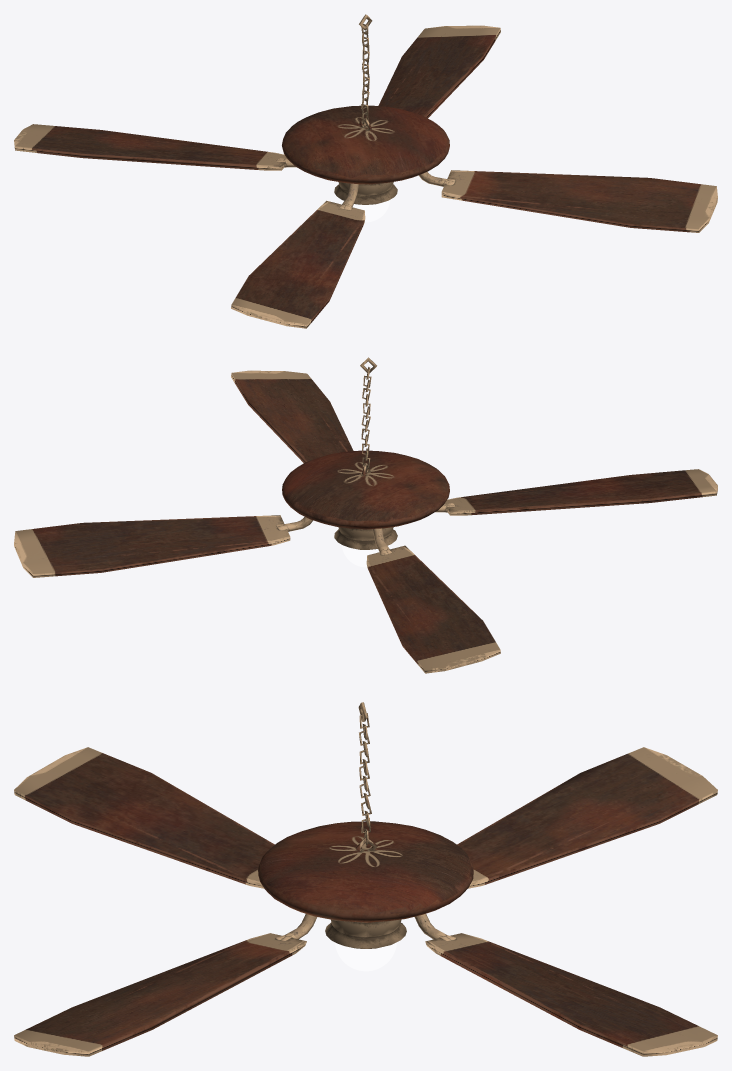
The model's file is classic_ceiling_fan.glb.
The picture shows the model from 3 angles, top to bottom: view 1: azimuth 30°, elevation 25°; view 2: azimuth 150°, elevation 25°; view 3: azimuth 270°, elevation 25°; orthographic projection. The views are drawn at different scales.
Visible parts, largest first — view 1: Blades, Base; view 2: Blades, Base; view 3: Blades, Base, Light.
Part boxes in pixels (left/top/right/bottom): Blades: left=14, top=25, right=717, bottom=328; Base: left=282, top=14, right=449, bottom=204; Blades: left=14, top=370, right=717, bottom=673; Base: left=282, top=357, right=449, bottom=549; Blades: left=14, top=747, right=717, bottom=1056; Base: left=258, top=702, right=473, bottom=948; Light: left=335, top=942, right=396, bottom=971.
Bounding box in the file's own units: 2 × 0.8127 × 1.95.
Materials: 3 (3 with a texture image).
